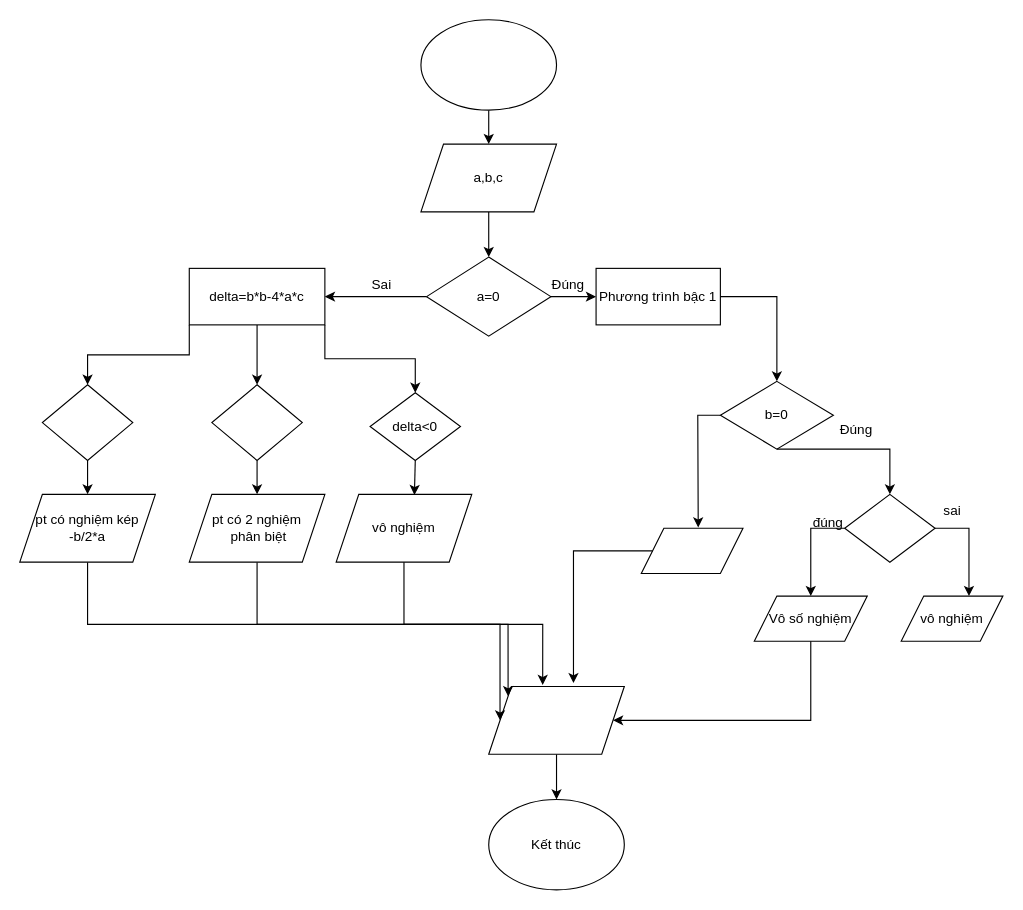
The diagram is 1023 pixels wide and 910 high, and some of its shapes have lost their labels. Each missing label, with the centre of its shape:
c=0: the point at 889,527
delta=0: the point at 87,422
delta>0: the point at 256,422
Nghiệm: the point at 556,719
START: the point at 488,64
x= -b/a: the point at 691,550
